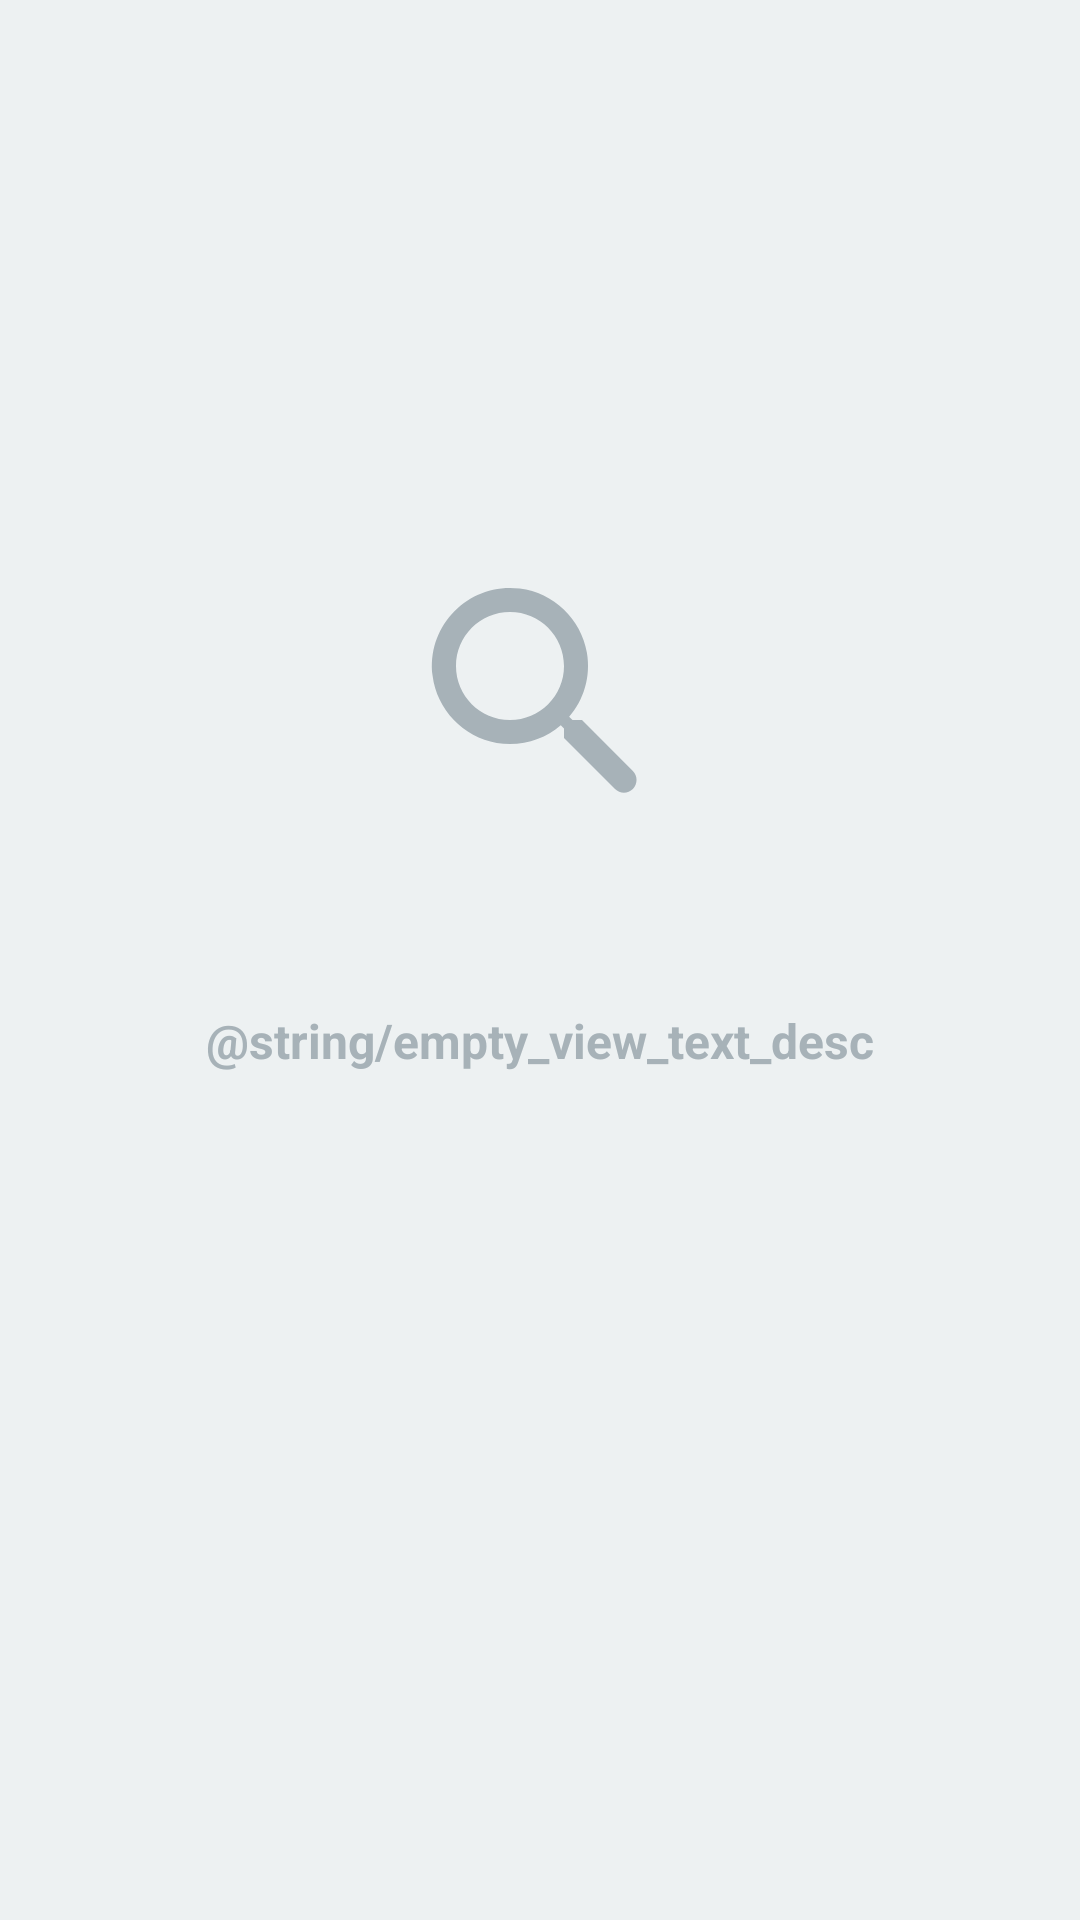

Icons on this 1080x1920 Android screen, each with its box as (x1, y1, x2, y2):
search: (432, 588, 637, 793)
